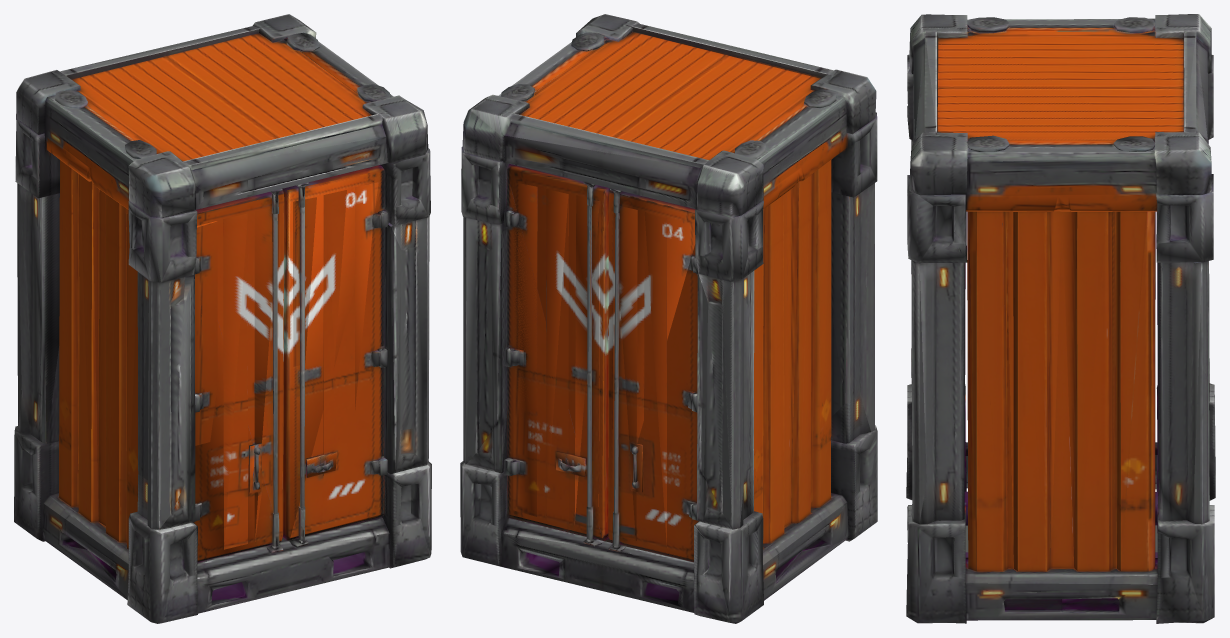
Rendered from cargo_tall_orange.glb.
3 renders of one model, left to right at view 1: azimuth 30°, elevation 25°; view 2: azimuth 150°, elevation 25°; view 3: azimuth 270°, elevation 25°, orthographic. The views are drawn at different scales.
Parts seen in each view (by area): view 1: mesh_node; view 2: mesh_node; view 3: mesh_node.
Boxes of the visible parts, box(x1,y1,x2,y2) form: mesh_node: box(14, 14, 431, 623); mesh_node: box(460, 14, 877, 623); mesh_node: box(906, 14, 1215, 623).
Size of the model in its own units: 1.7 by 2.59 by 1.54.
1 material, 1 textured.
